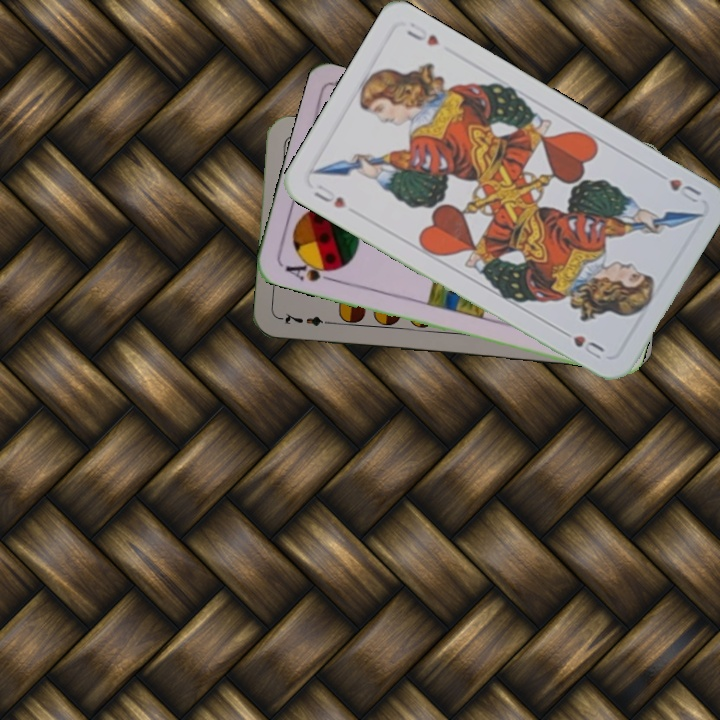E7: (277, 309, 336, 329)
HU: (665, 174, 704, 206), (309, 180, 349, 211)
SA: (281, 256, 340, 285)
